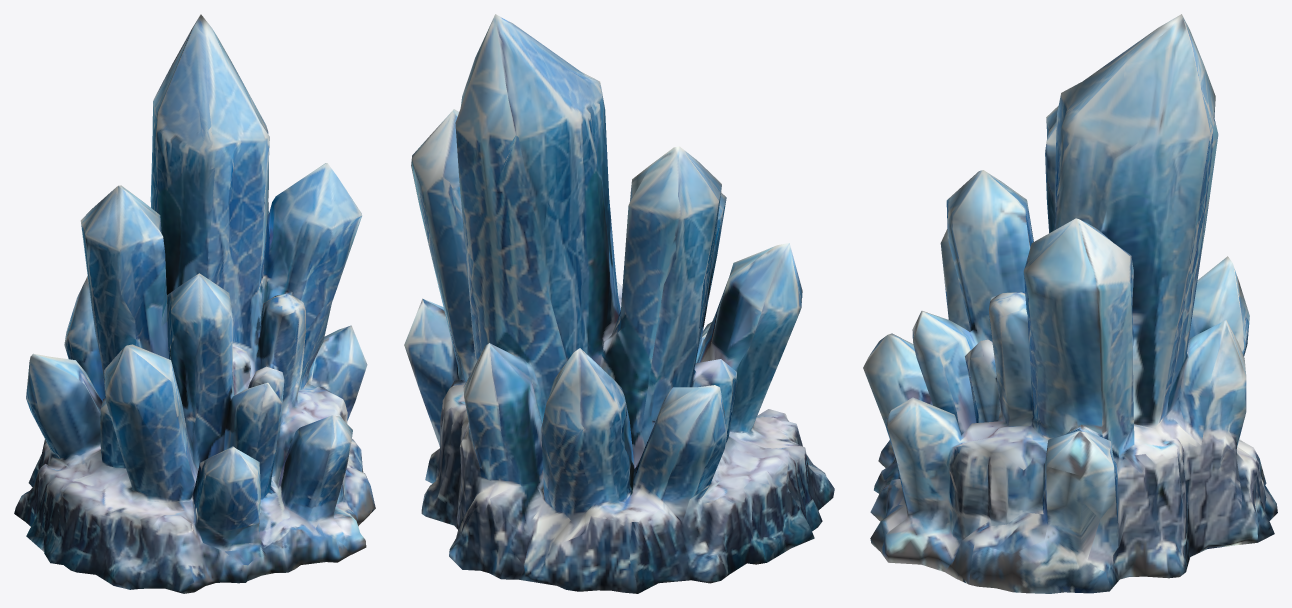
Rendered from BossRoom_GrandCrystal.fbx.
The picture shows the model from 3 angles, left to right: view 1: azimuth 30°, elevation 25°; view 2: azimuth 150°, elevation 25°; view 3: azimuth 270°, elevation 25°; orthographic projection. The views are drawn at different scales.
Parts seen in each view (by area): view 1: BossRoom_GrandCrystal_Mesh; view 2: BossRoom_GrandCrystal_Mesh; view 3: BossRoom_GrandCrystal_Mesh.
Boxes of the visible parts, x1=… form: BossRoom_GrandCrystal_Mesh: x1=14, y1=14, x2=375, y2=593; BossRoom_GrandCrystal_Mesh: x1=404, y1=14, x2=834, y2=593; BossRoom_GrandCrystal_Mesh: x1=863, y1=14, x2=1277, y2=593.
Size of the model in its own units: 4.44 by 6 by 4.14.
1 material, 1 textured.
